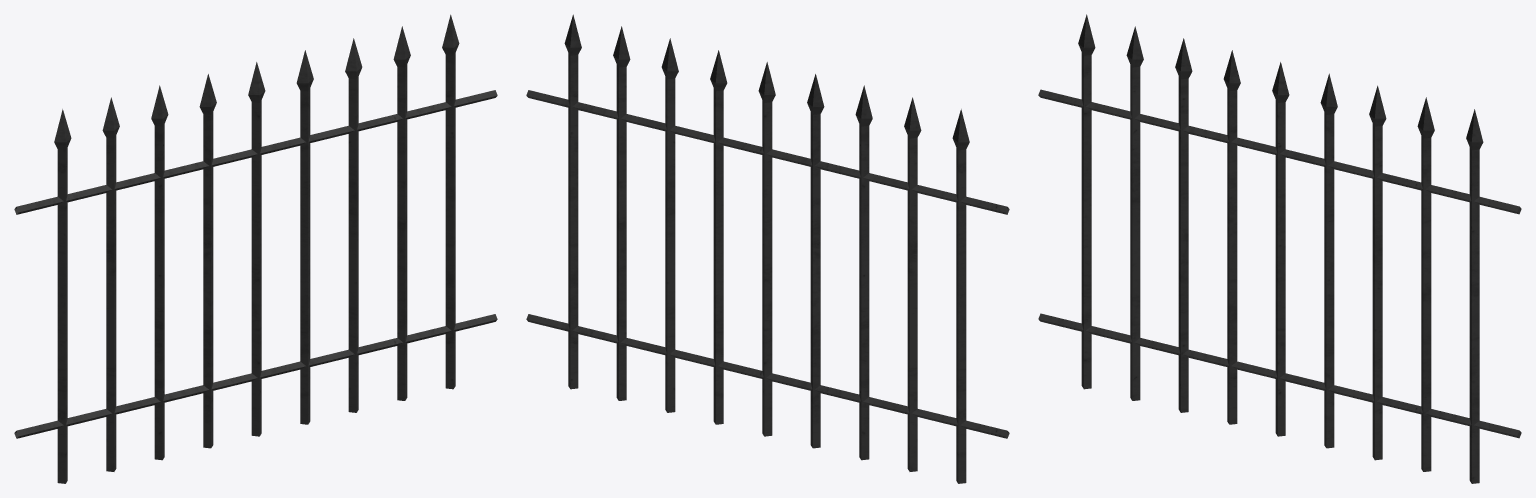
The model's file is fence4.glb.
The picture shows the model from 3 angles, left to right: view 1: azimuth 30°, elevation 25°; view 2: azimuth 150°, elevation 25°; view 3: azimuth 330°, elevation 25°; orthographic projection.
Parts seen in each view (by area): view 1: Fence_4; view 2: Fence_4; view 3: Fence_4.
Boxes of the visible parts, bbox=[...] form: Fence_4: bbox=[14, 14, 497, 483]; Fence_4: bbox=[526, 14, 1009, 483]; Fence_4: bbox=[1038, 14, 1521, 483].
Bounding box in the file's own units: 333 × 248 × 7.24.
1 material, 1 textured.
